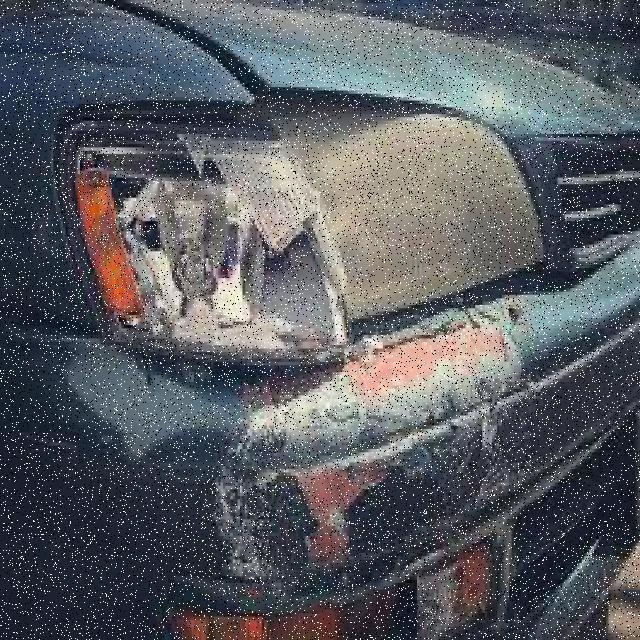car damage: (12, 288, 633, 637), (27, 71, 349, 369)
